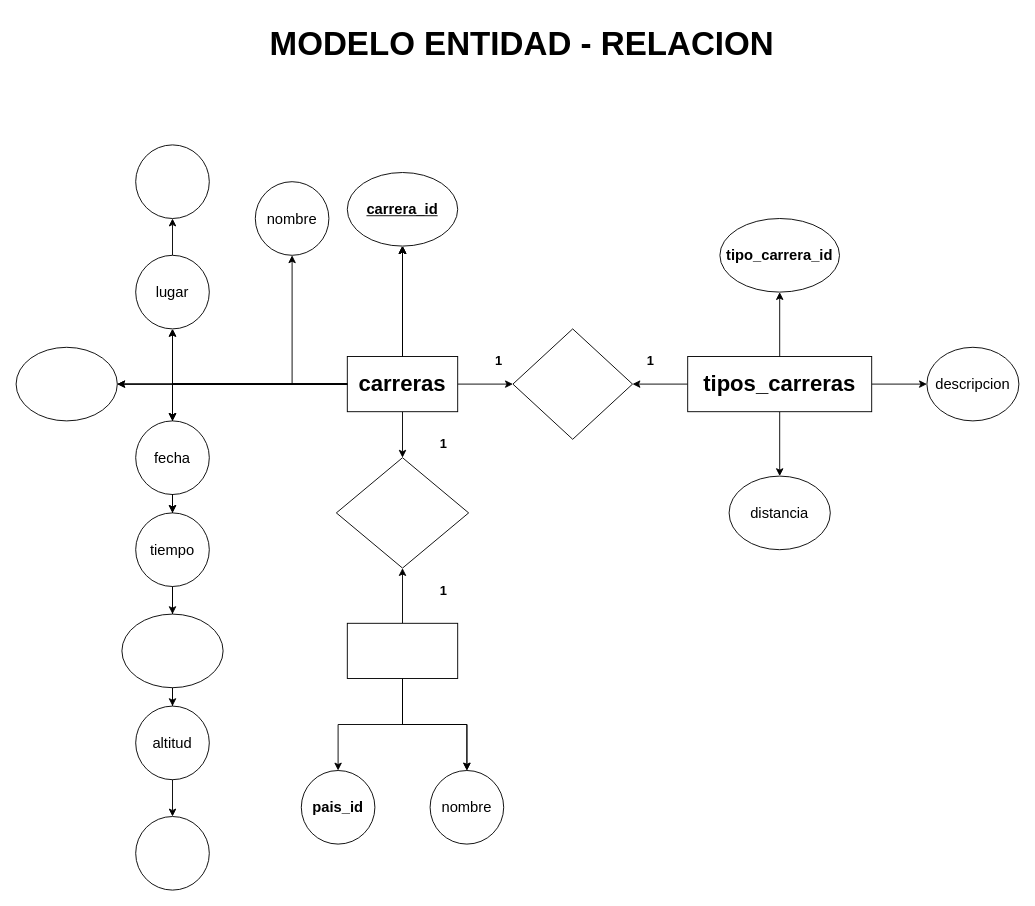
Image size: 1035x906. Some labels were removed from this diagram. Each missing label, with the centre of its shape:
"foto" goes at point 172,181.
"mejor_tiempo" goes at point 172,650.
"pais" goes at point 172,853.
"paises" goes at point 402,650.
"pertenece" goes at point 572,383.
"se corre" goes at point 402,512.
"tipo_carrera" goes at point 66,383.
